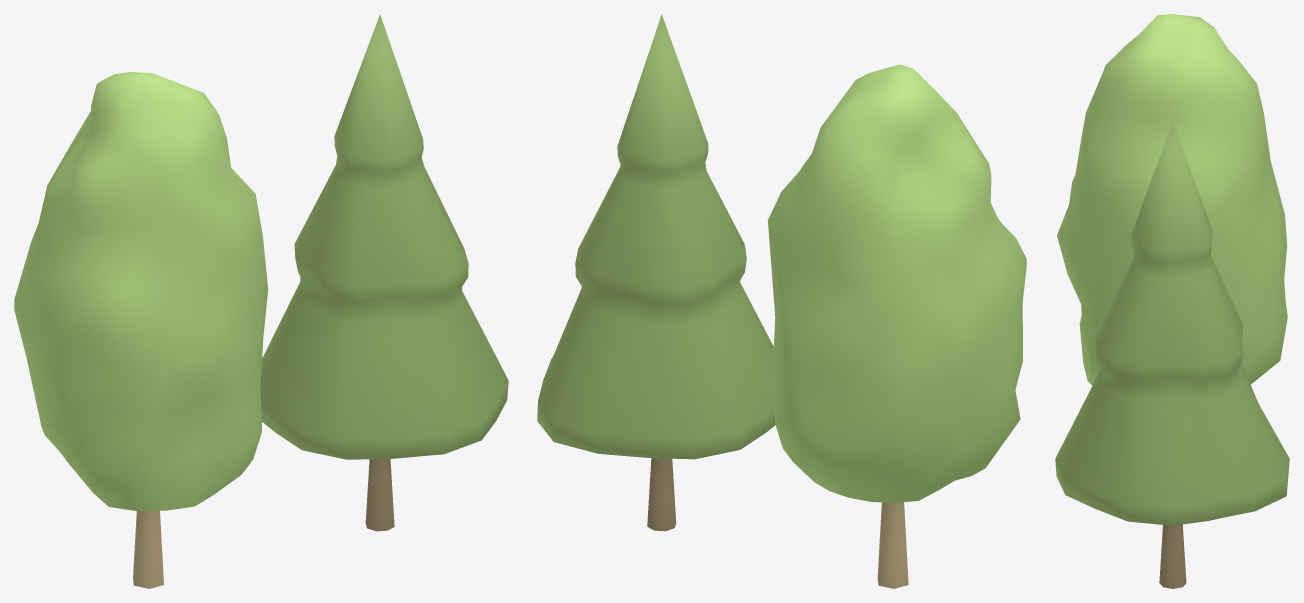
3 views of the same model, side by side, from view 1: azimuth 30°, elevation 25°; view 2: azimuth 150°, elevation 25°; view 3: azimuth 270°, elevation 25° (orthographic). The views are drawn at different scales.
Parts seen in each view (by area): view 1: Circle.025; view 2: Circle.025; view 3: Circle.025.
Boxes of the visible parts, left/top/right/bottom form: Circle.025: left=14, top=14, right=508, bottom=588; Circle.025: left=537, top=14, right=1026, bottom=588; Circle.025: left=1055, top=14, right=1289, bottom=588.
Bounding box in the file's own units: 18.36 × 19.83 × 9.11.
Materials: 2 (2 with a texture image).
